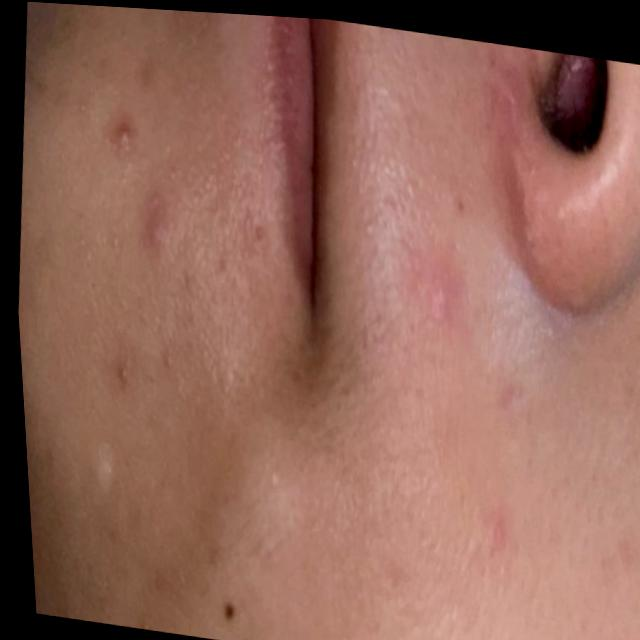papule: (393, 224, 471, 395), (114, 189, 185, 300)
pustule: (87, 100, 160, 173)
